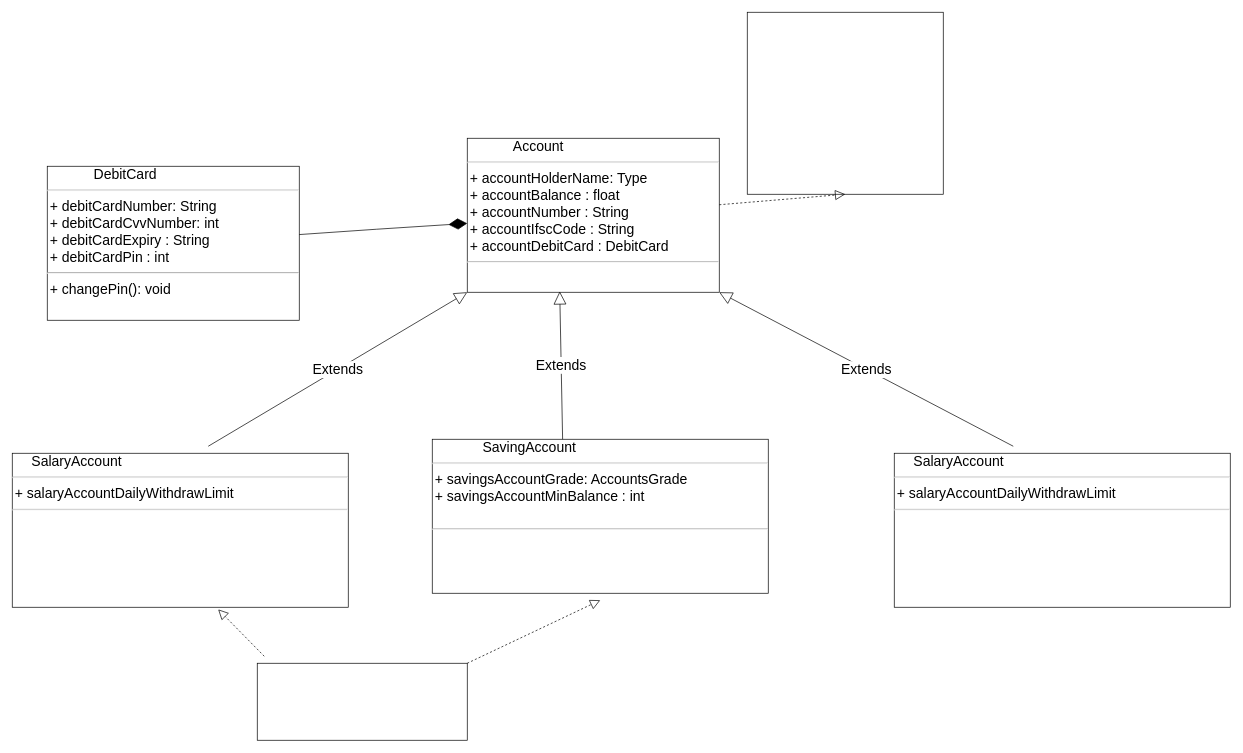
This 1243x753 diagram has some shape labels left out. The shapes that lost their labels are listed below. From the top down, each one's centre as x and y in pixels, then its label:
At (845,103): "«interface» AccountFunctionalities checkBalance();".
At (362,701): "«interface» InterestEligibleAccounts calculateInterest();".
